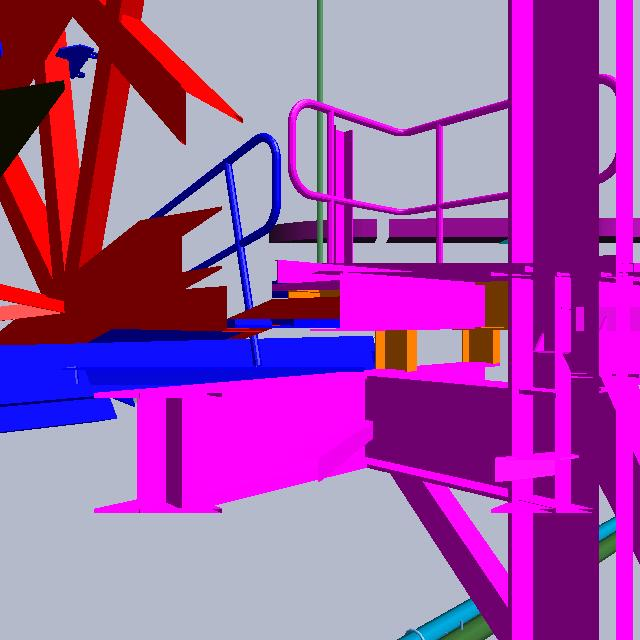Poste: (316, 1, 324, 272)
Soporte: (322, 126, 357, 279)
